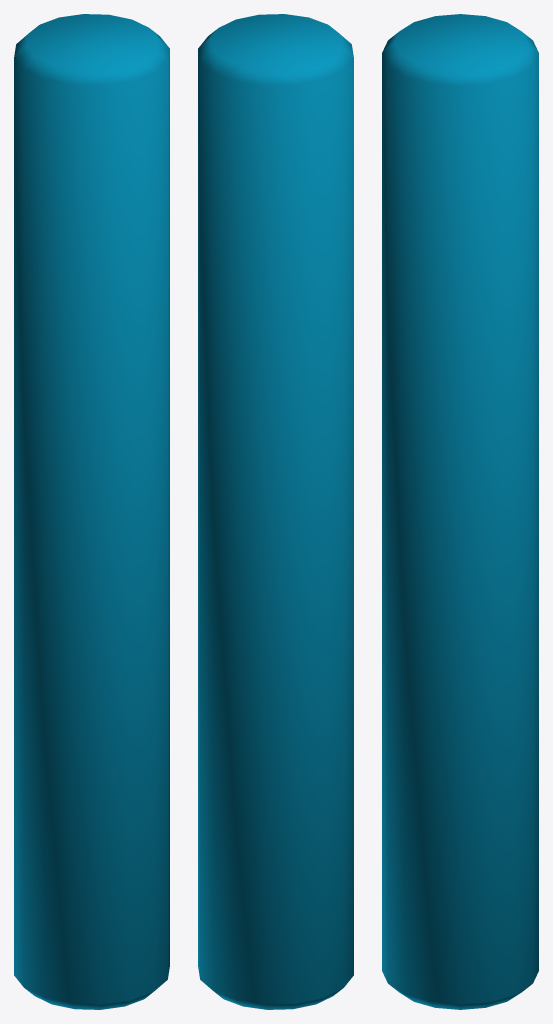
The model's file is Chalk.gltf.
3 views of the same model, side by side, from view 1: azimuth 30°, elevation 25°; view 2: azimuth 150°, elevation 25°; view 3: azimuth 270°, elevation 25° (orthographic).
Visible parts, largest first — view 1: node-0; view 2: node-0; view 3: node-0.
Boxes of the visible parts, left/top/right/bottom form: node-0: left=14, top=14, right=169, bottom=1009; node-0: left=198, top=14, right=353, bottom=1009; node-0: left=382, top=14, right=538, bottom=1009.
Size of the model in its own units: 0.0153 by 0.1013 by 0.0153.
